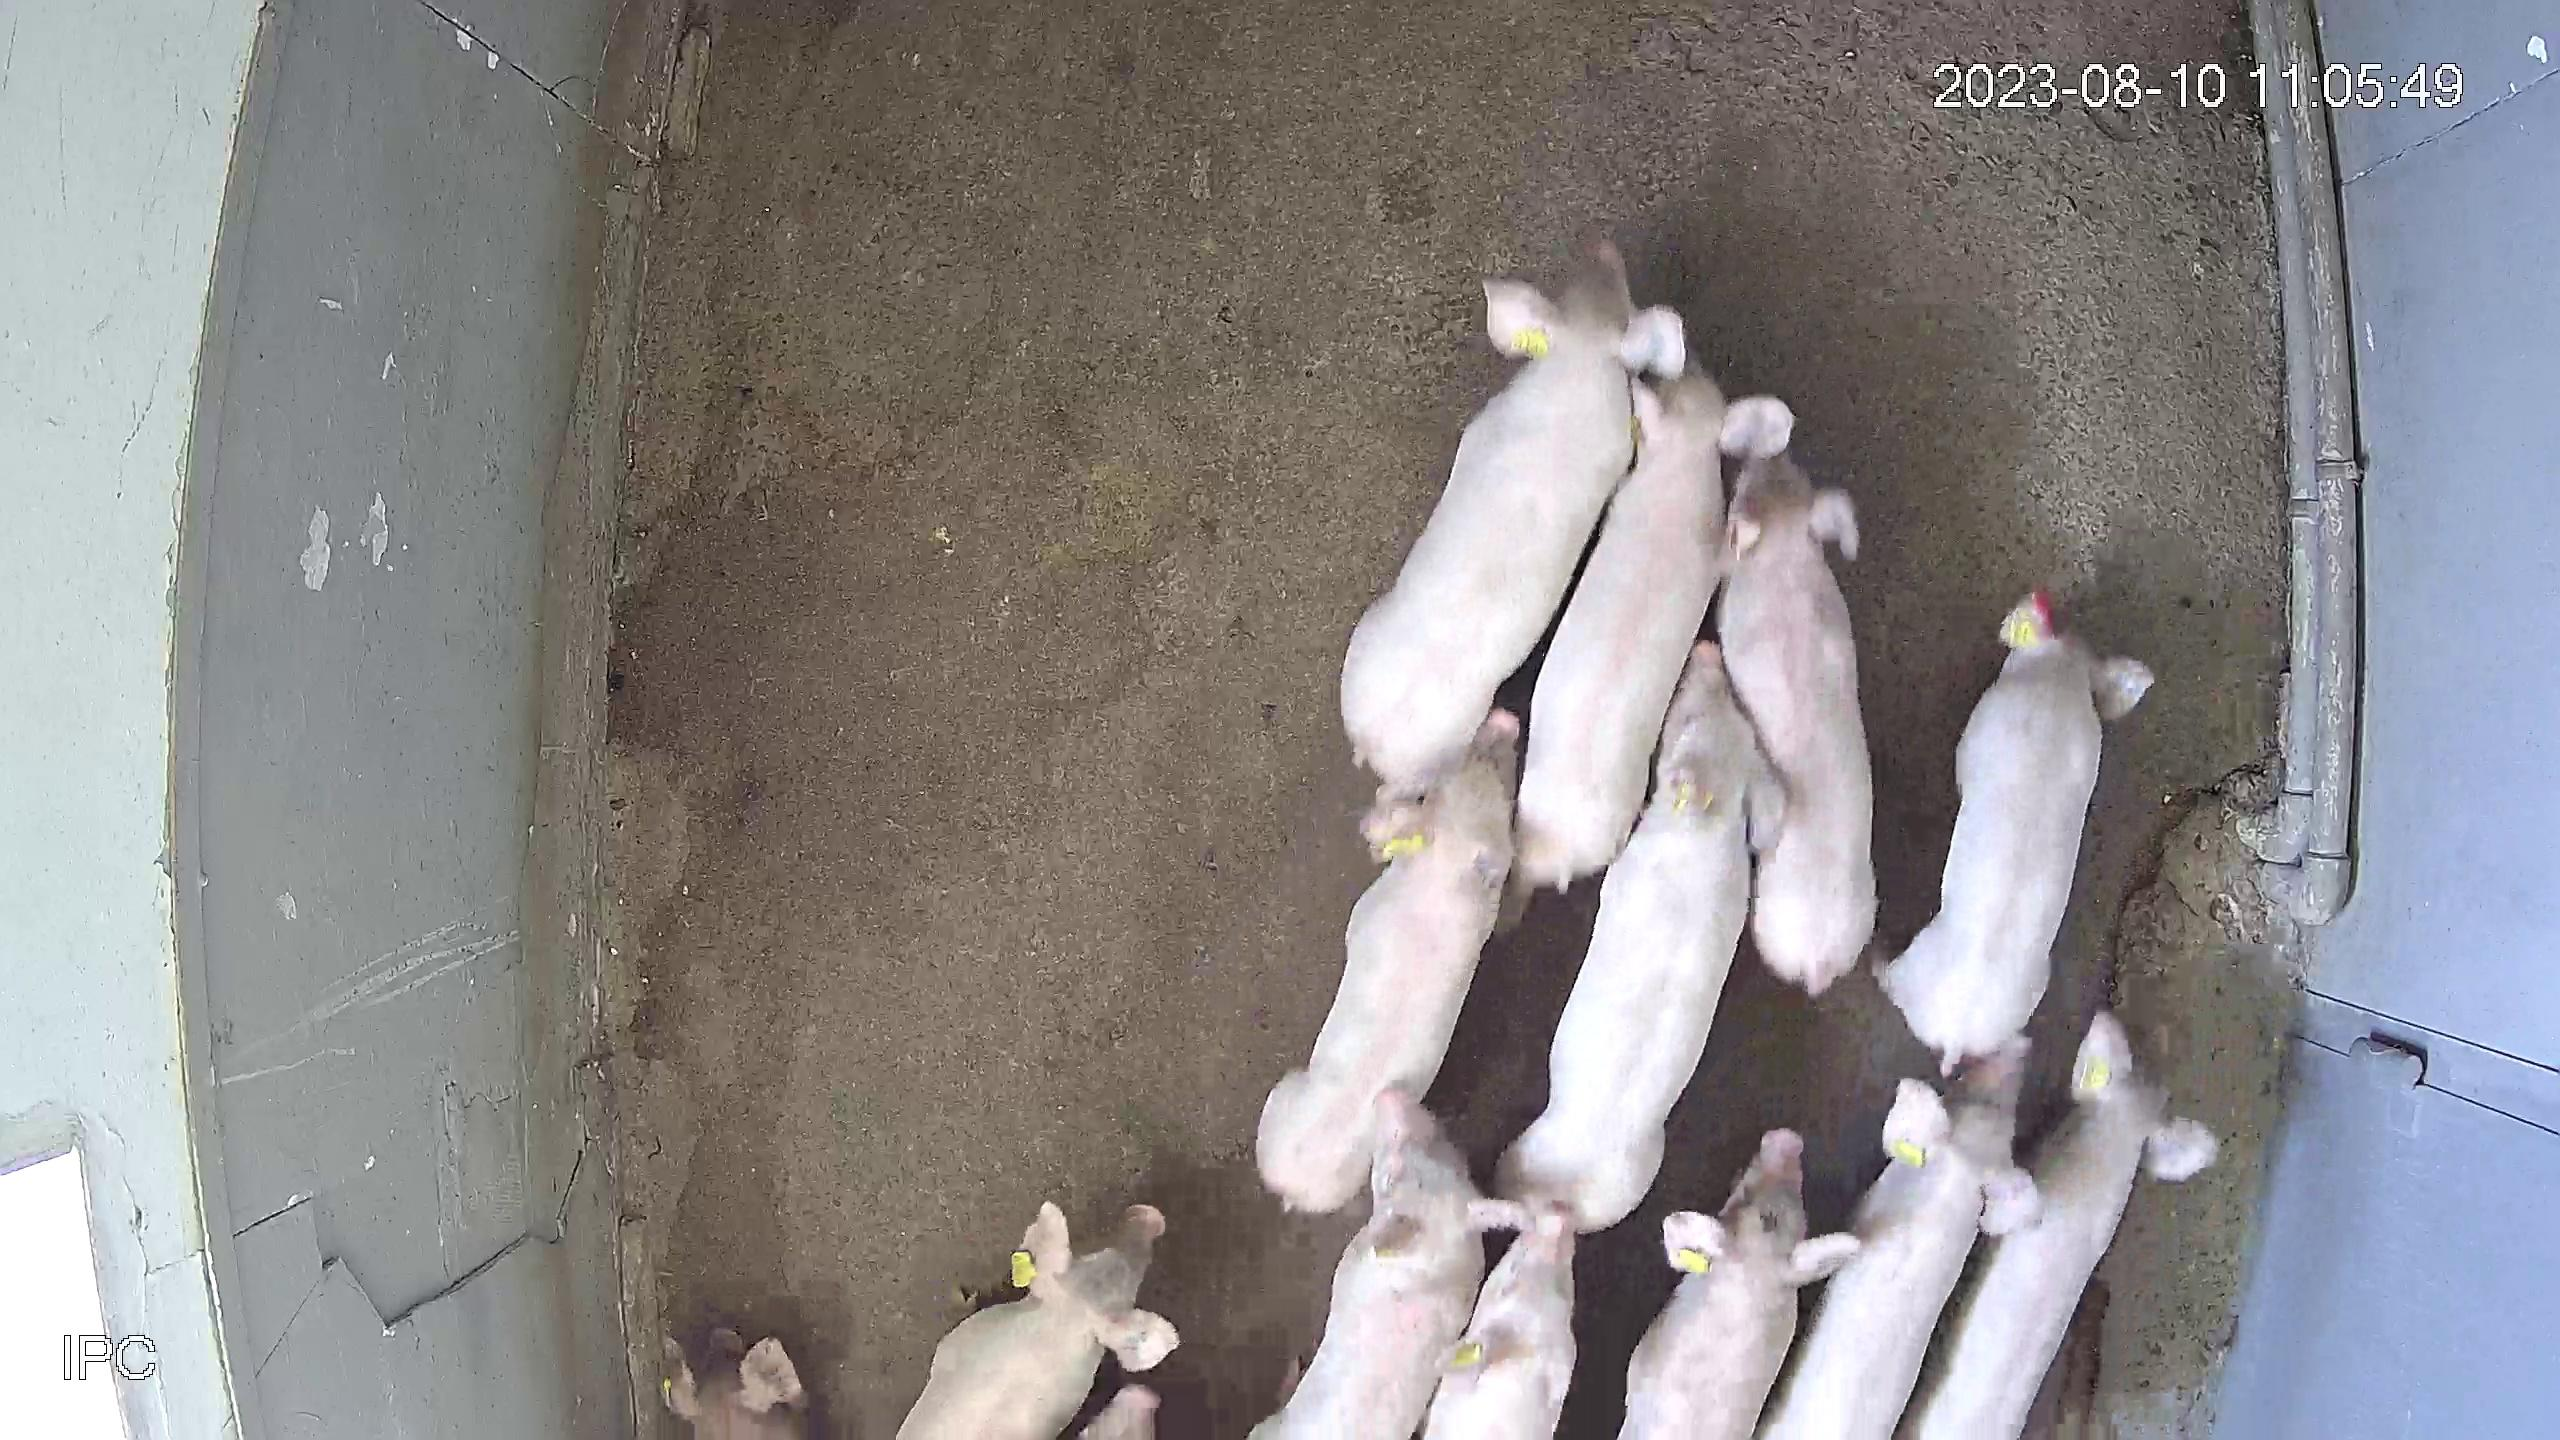Pig: (1342, 237, 1686, 796), (1498, 642, 1785, 1233), (1516, 367, 1795, 891), (1904, 1011, 2221, 1440), (1881, 587, 2157, 1074), (1257, 710, 1521, 1213), (1758, 1039, 2043, 1440), (1250, 1088, 1528, 1440), (1720, 454, 1880, 995), (1621, 1129, 1864, 1440), (895, 1204, 1176, 1440), (1424, 1204, 1577, 1440), (659, 1329, 805, 1440), (1078, 1384, 1160, 1440)
